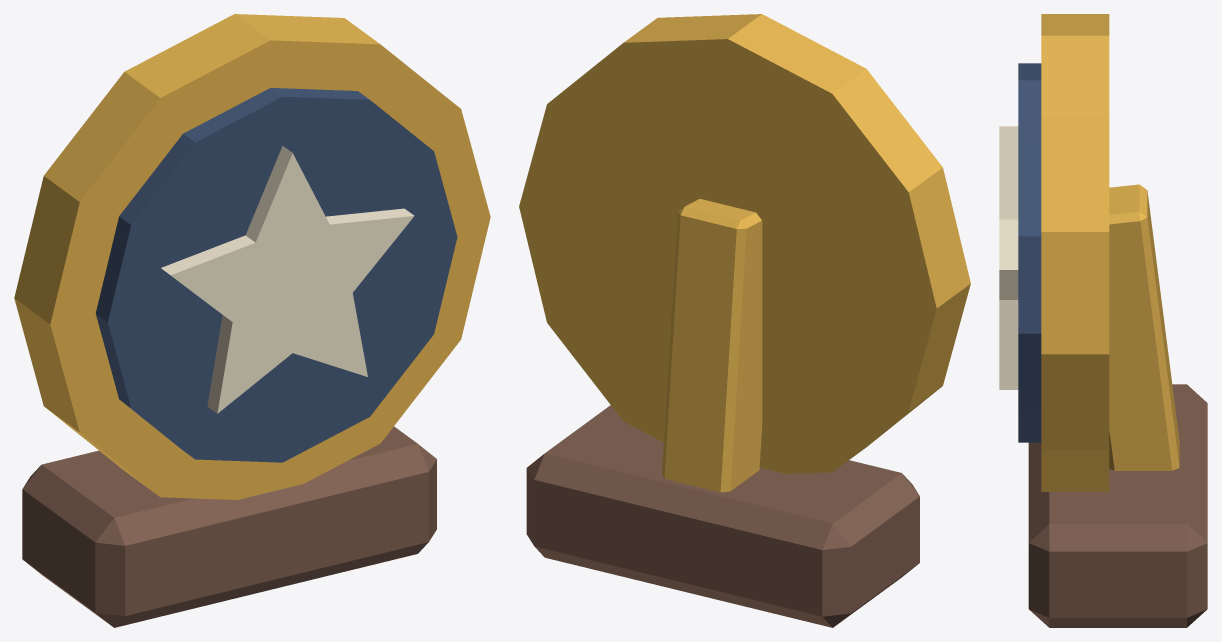
Rendered from SM_Shop_BadgeDisplay.fbx.
3 renders of one model, left to right at view 1: azimuth 30°, elevation 25°; view 2: azimuth 150°, elevation 25°; view 3: azimuth 270°, elevation 25°, orthographic. The views are drawn at different scales.
Visible parts, largest first — view 1: SM_Shop_BadgeDisplay; view 2: SM_Shop_BadgeDisplay; view 3: SM_Shop_BadgeDisplay.
Boxes of the visible parts, bbox=[...] form: SM_Shop_BadgeDisplay: bbox=[14, 14, 490, 627]; SM_Shop_BadgeDisplay: bbox=[519, 14, 970, 627]; SM_Shop_BadgeDisplay: bbox=[999, 14, 1207, 627].
Size of the model in its own units: 67 by 29.1 by 80.5.
